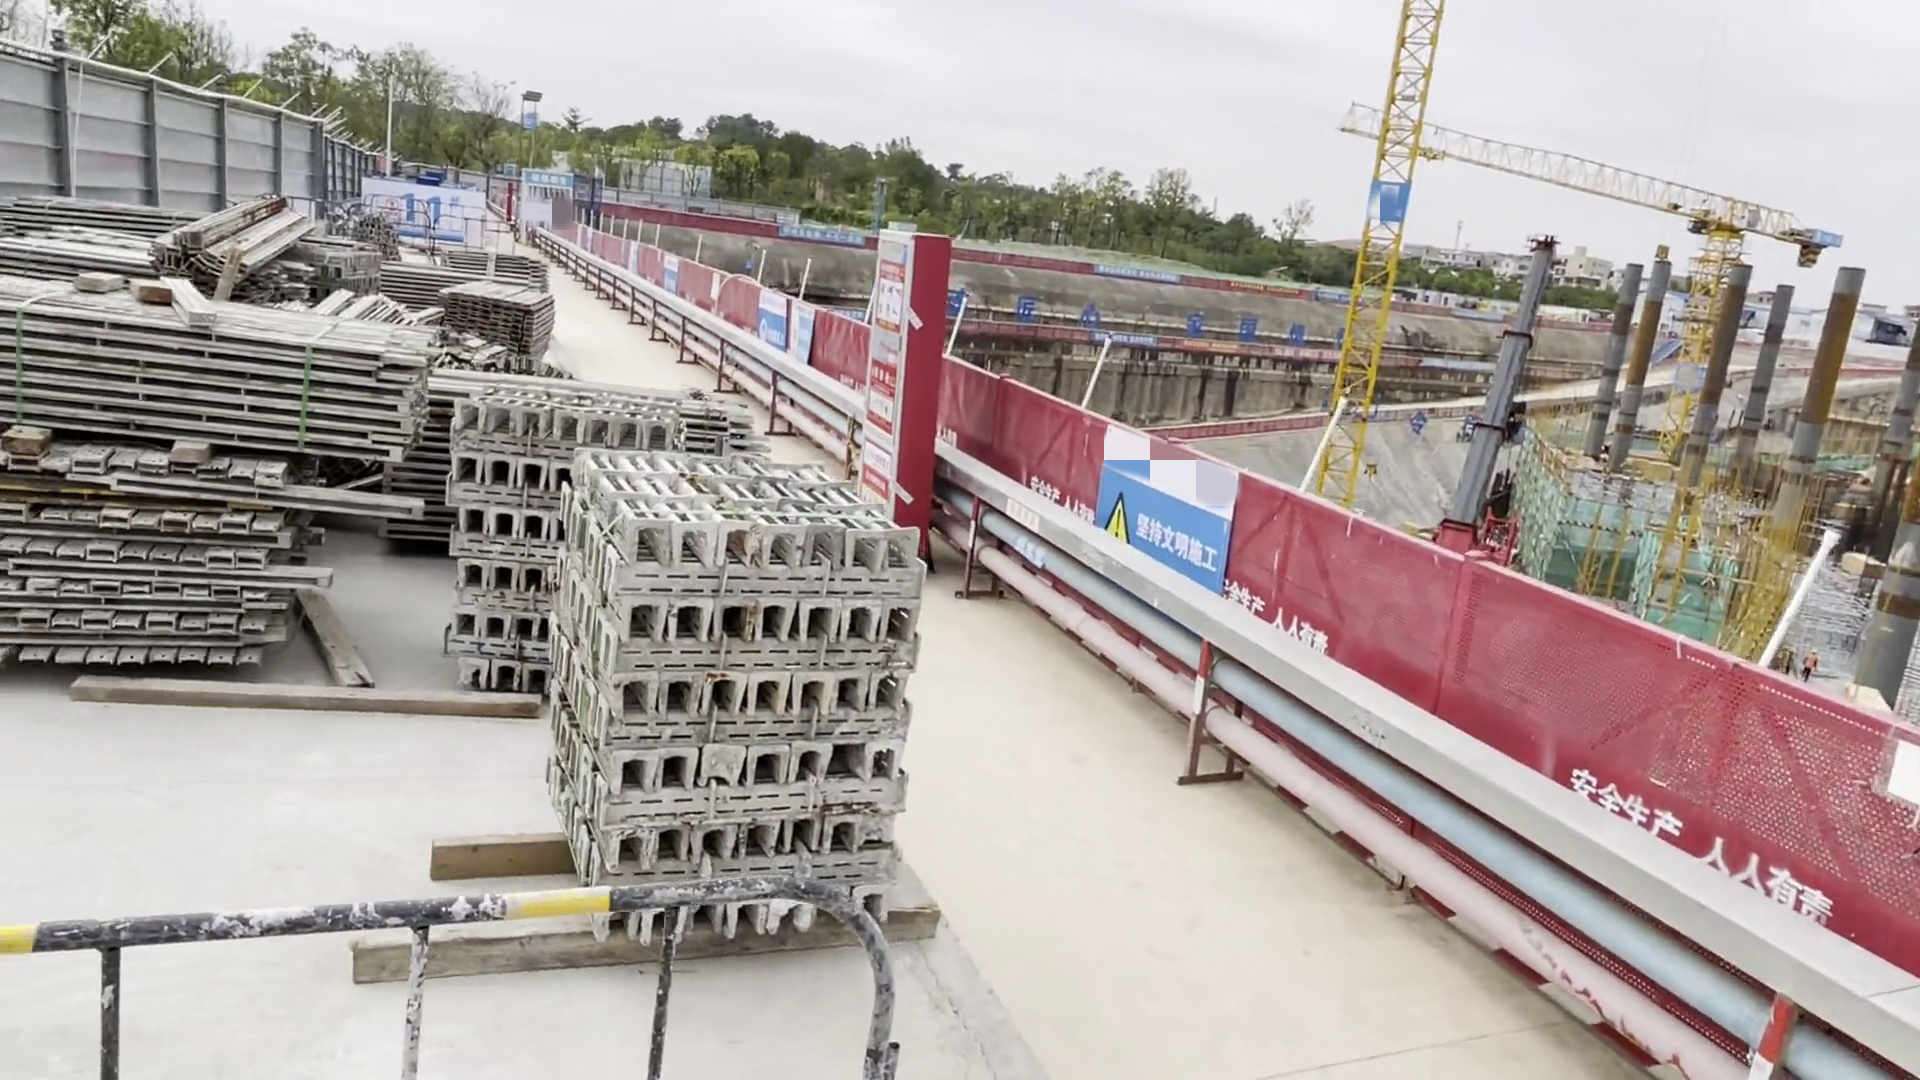fence: (944, 357, 1920, 1080)
slogan: (1088, 468, 1226, 585)
